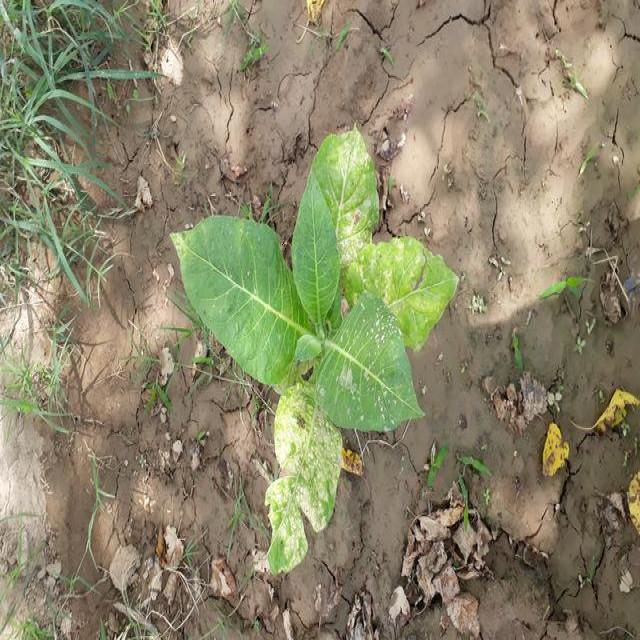crop: (178, 120, 456, 560)
